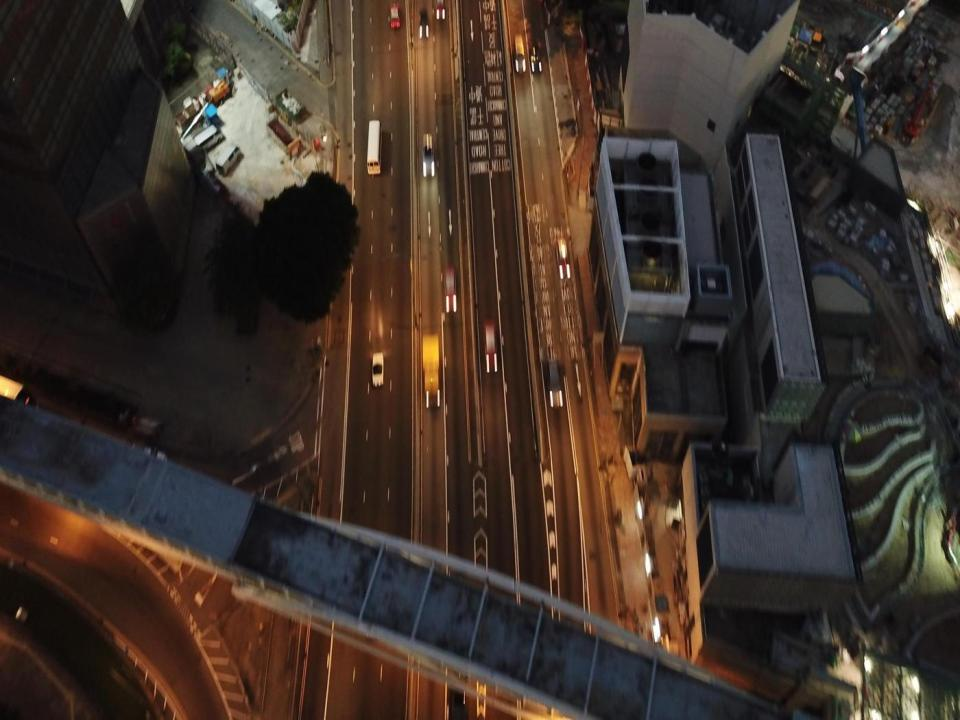bus: (422, 331, 441, 410), (367, 120, 382, 174)
car: (445, 650, 470, 706), (546, 356, 563, 407), (442, 268, 457, 314), (483, 324, 497, 373), (422, 134, 434, 178), (372, 353, 384, 387), (530, 43, 542, 73), (418, 9, 428, 38), (390, 2, 400, 28), (435, 0, 445, 20)
van: (190, 122, 221, 150), (216, 144, 240, 176), (514, 36, 526, 70)
